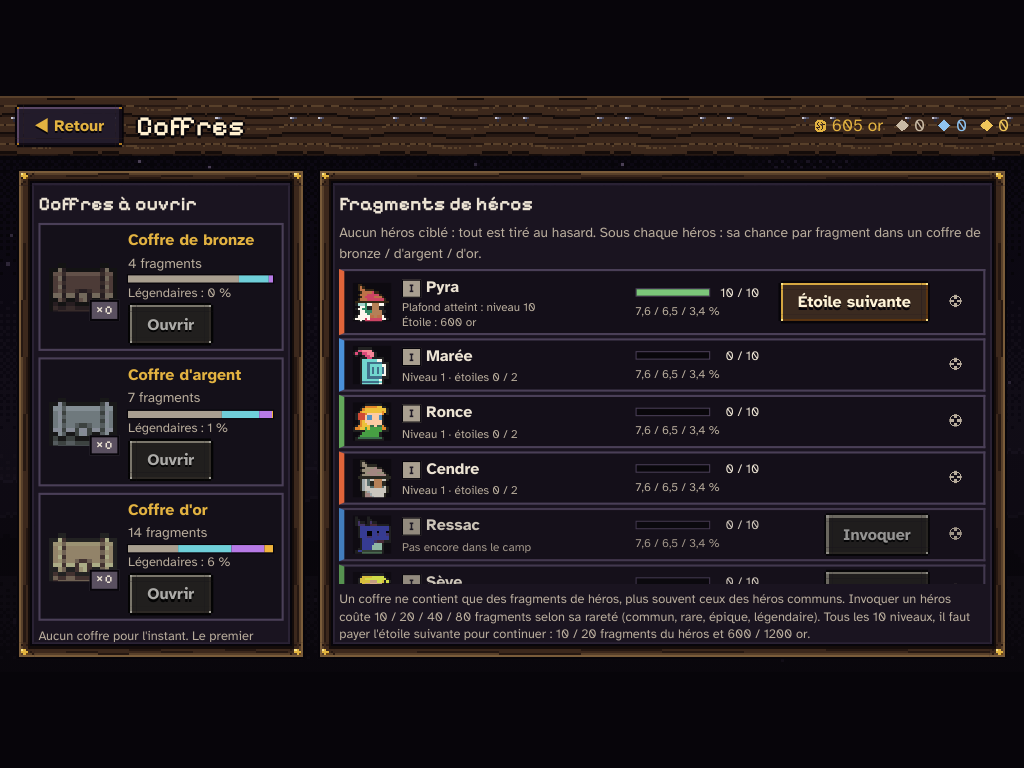
Test: écran des coffres › au plafond de niveau : l’étoile coûte des fragments et de l’or, puis le plafond monte
Click the button "Étoile suivante" at [855, 302], box [779,280,930,323]
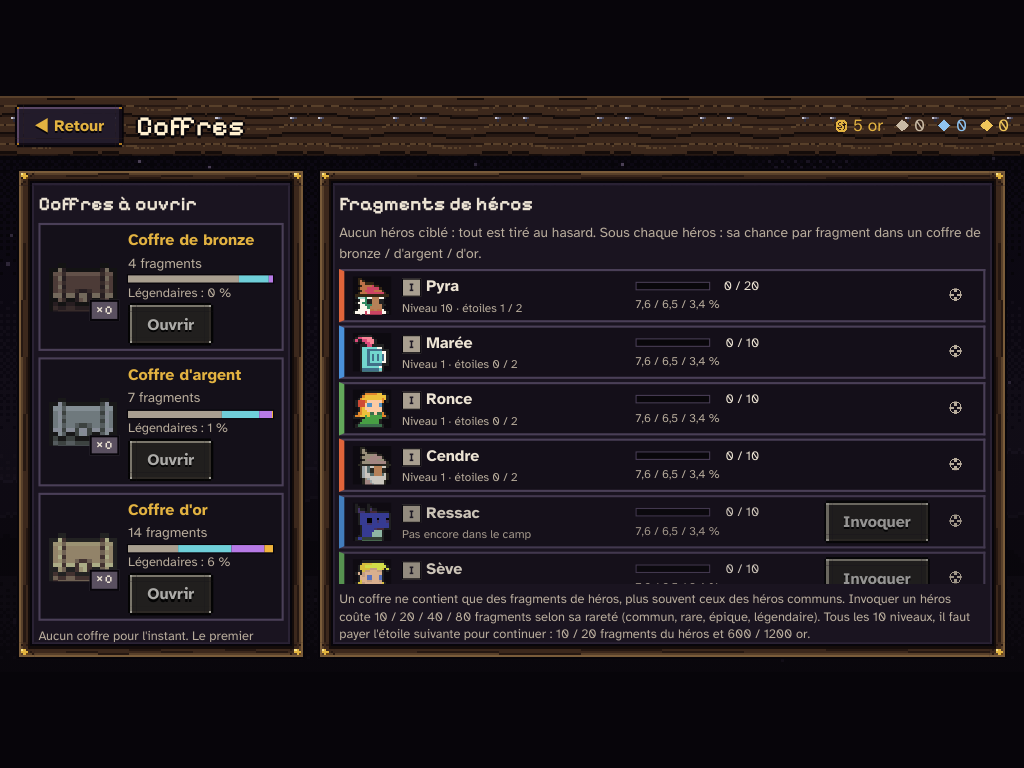
Expected: the button "Étoile suivante" is not shown
Now the text "Niveau 10 · étoiles 1 / 2" is shown, box [402,300,522,314]
